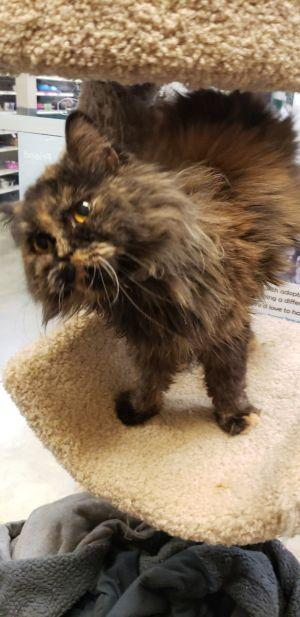persian: (1, 107, 176, 325)
